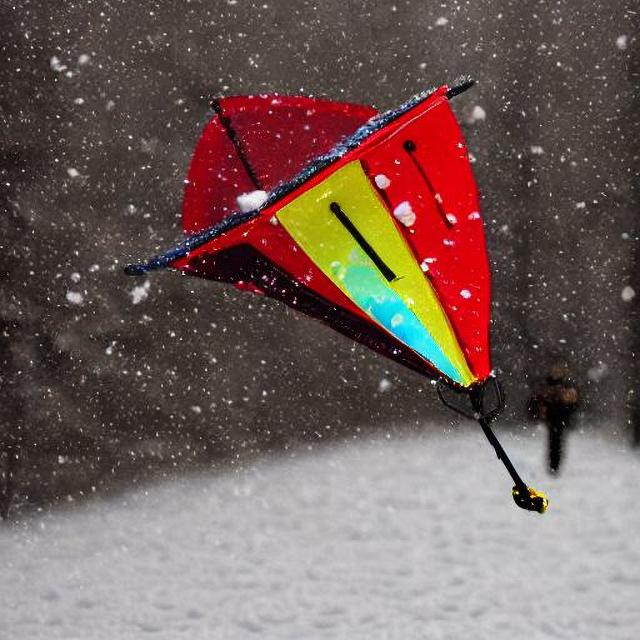floating object: (130, 77, 500, 389)
